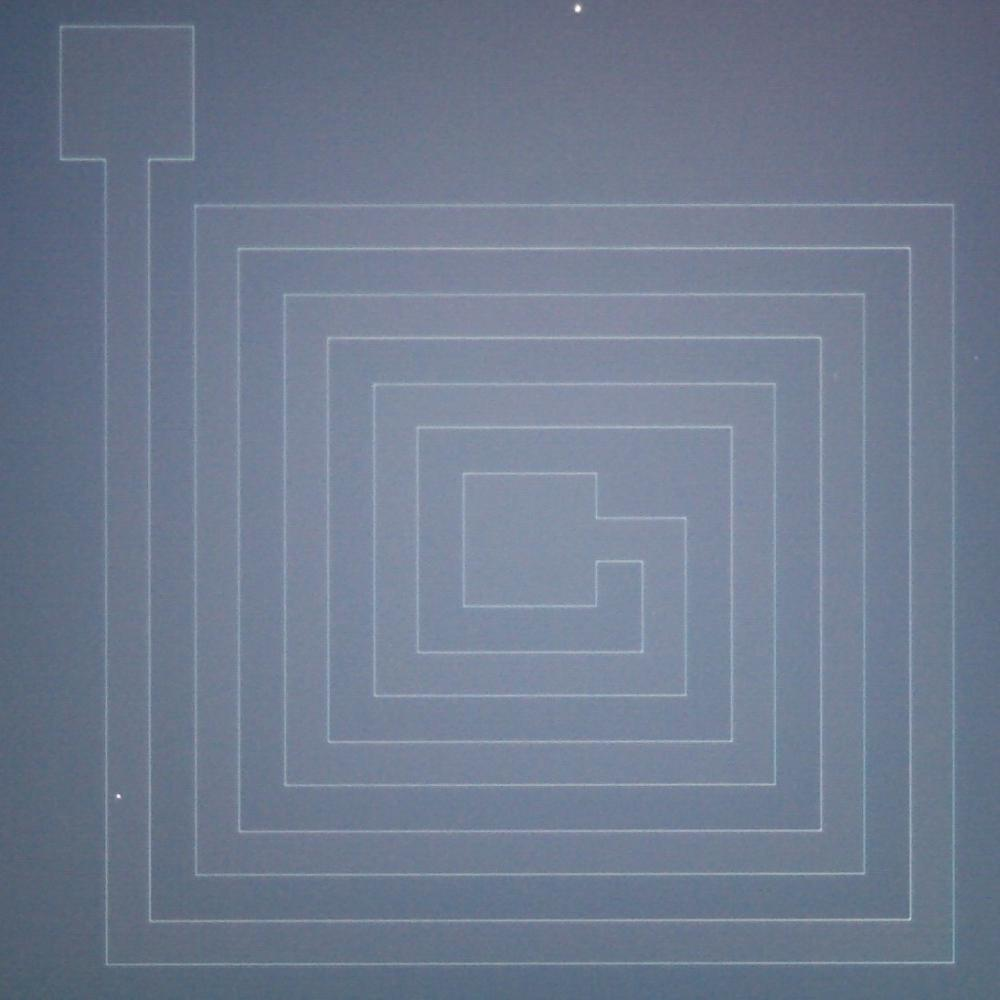dot: (574, 5, 582, 13), (116, 793, 122, 799)
